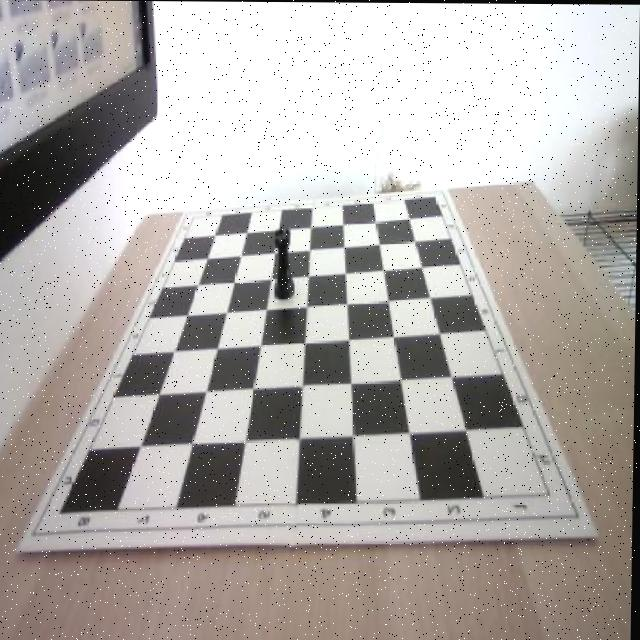black-queen: (274, 228, 297, 302)
